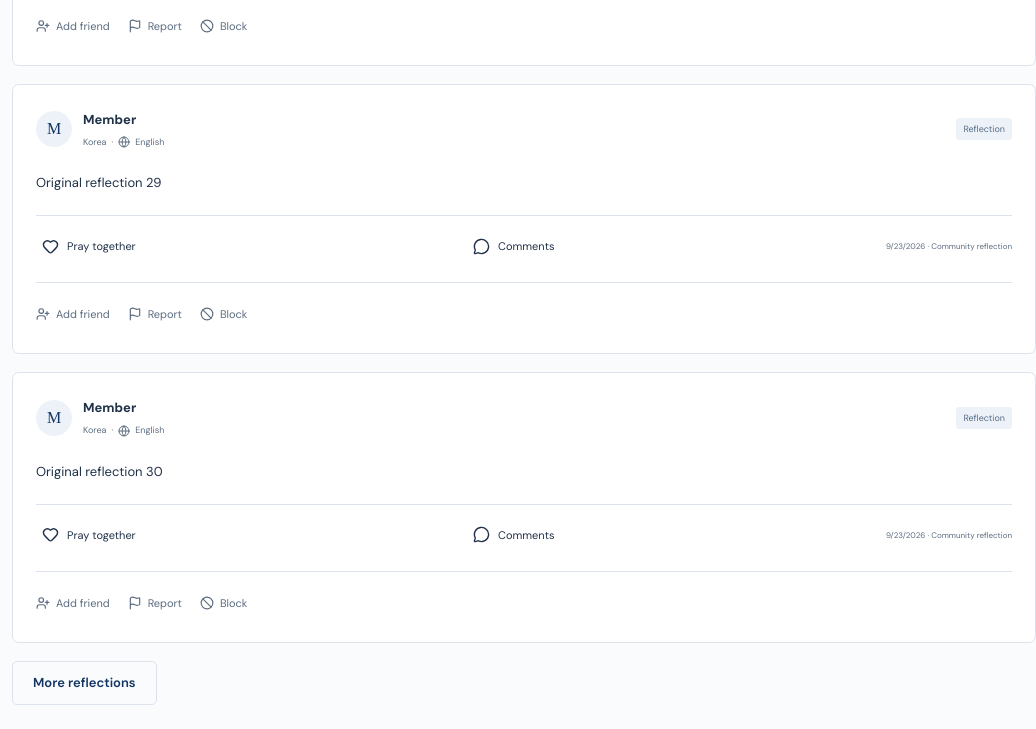
Test: does not append an old page after changing the QT passage
(page scrolled)
Click the button "More reflections" at (84, 683), box [12,661,157,705]
(page scrolled)
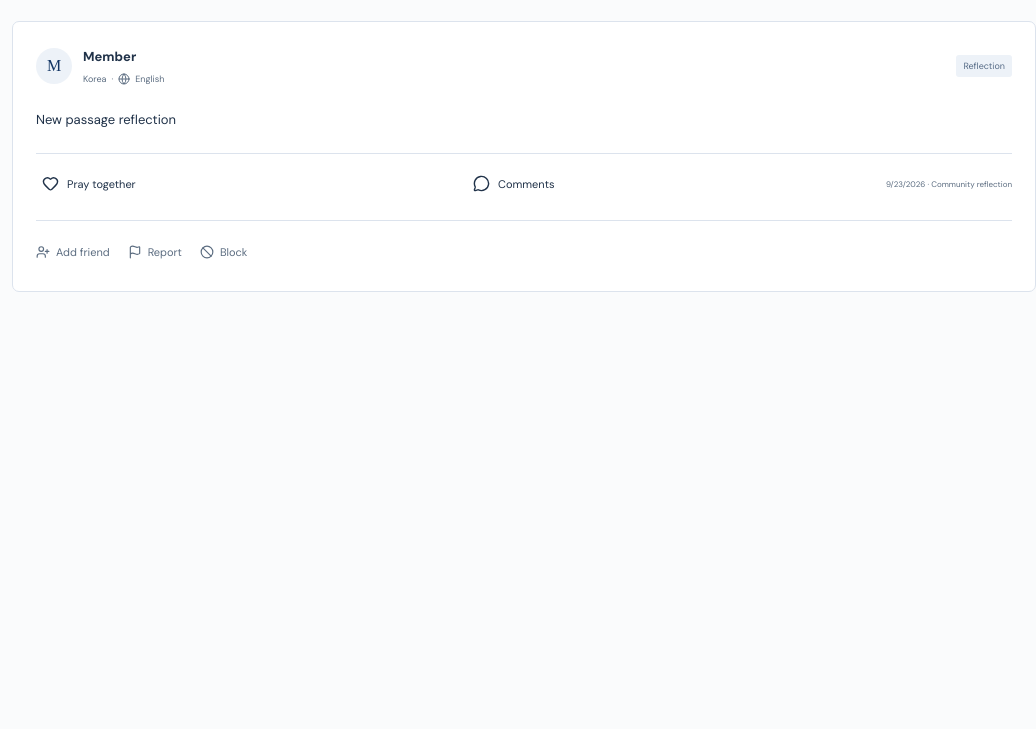
expect the element that starts with "Refresh reflections" shows "New passage reflection": met, box [36,111,176,128]
